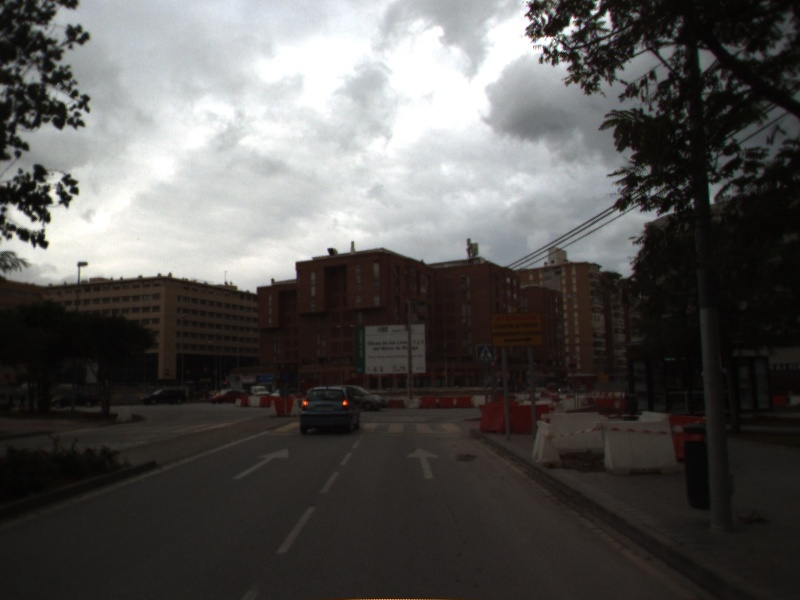STRAIGHT: (230, 445, 291, 482), (404, 444, 442, 480)
